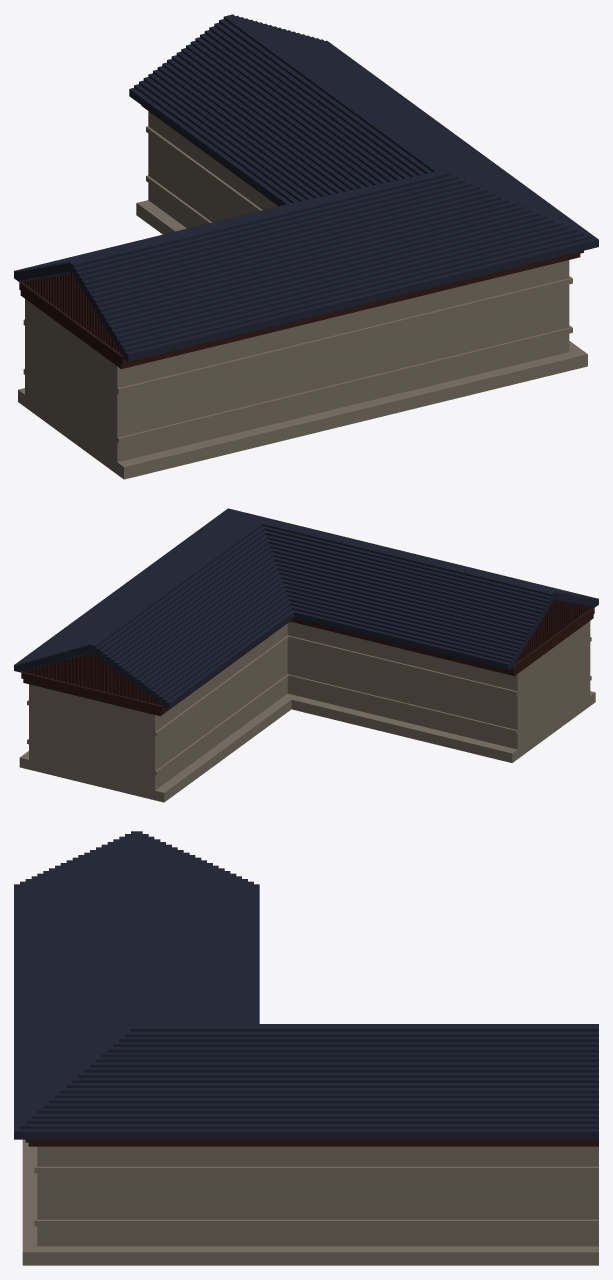
The model's file is Korean castle_wall_03.FBX.
The picture shows the model from 3 angles, top to bottom: view 1: azimuth 30°, elevation 25°; view 2: azimuth 150°, elevation 25°; view 3: azimuth 270°, elevation 25°; orthographic projection. The views are drawn at different scales.
Visible parts, largest first — view 1: Voxel_Korean_traditional castle-6; view 2: Voxel_Korean_traditional castle-6; view 3: Voxel_Korean_traditional castle-6.
Part boxes in pixels (<box>): Voxel_Korean_traditional castle-6: <box>14,14,598,479</box>; Voxel_Korean_traditional castle-6: <box>14,508,598,802</box>; Voxel_Korean_traditional castle-6: <box>14,831,598,1265</box>.
Bounding box in the file's own units: 400 × 144 × 400.
1 material, 1 textured.
